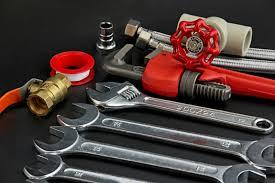wrench: (55, 100, 274, 172), (31, 124, 267, 182), (83, 78, 273, 136), (101, 42, 274, 102), (20, 151, 146, 182)
